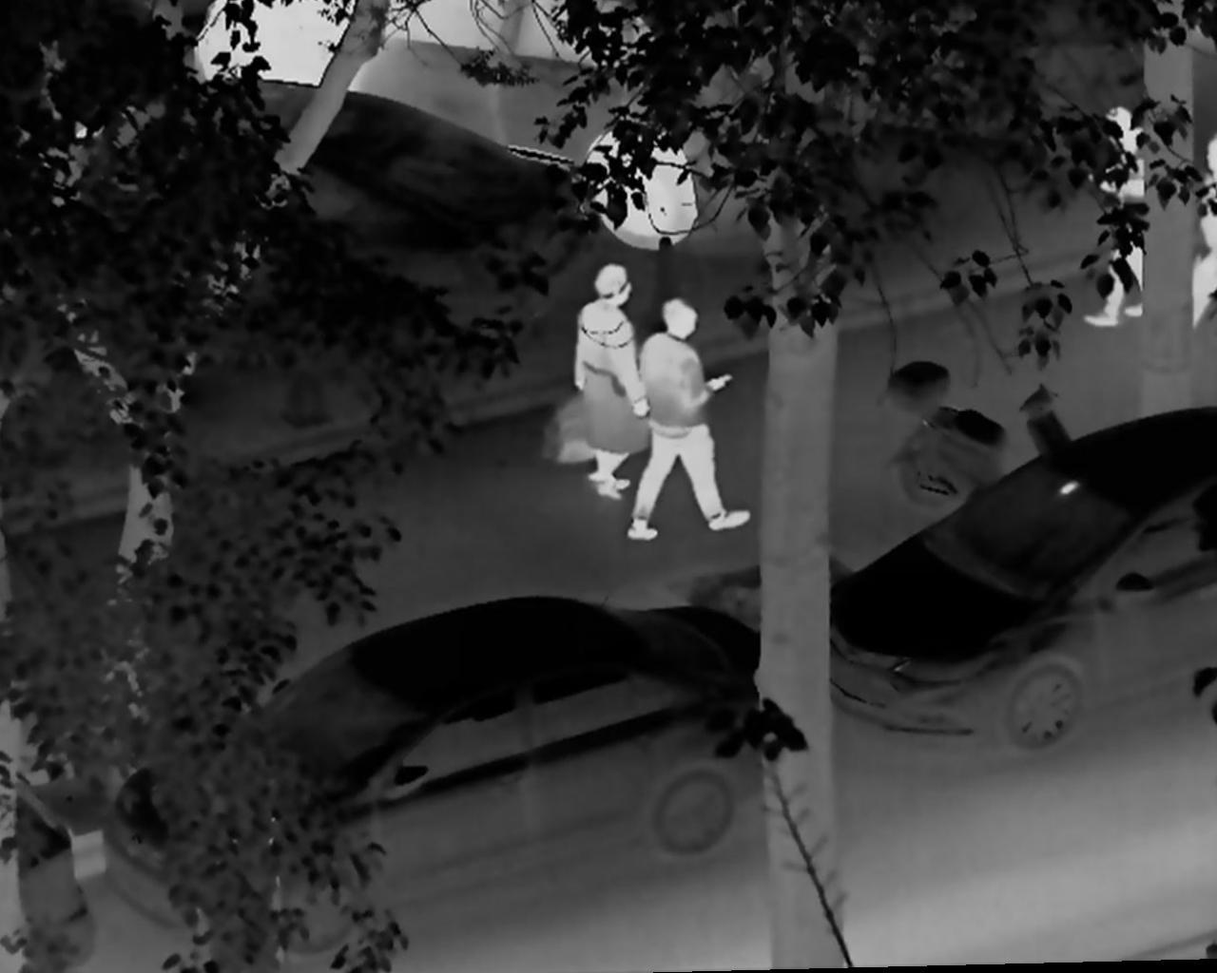person: (621, 296, 752, 544), (565, 258, 651, 505), (1080, 102, 1166, 330), (1179, 136, 1217, 334)
